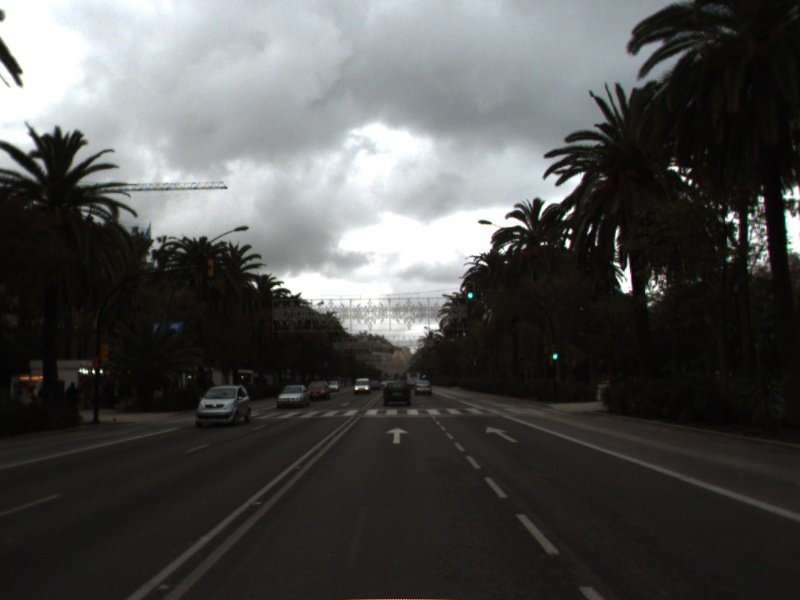STRAIGHT: (483, 424, 521, 445), (384, 425, 411, 445)
